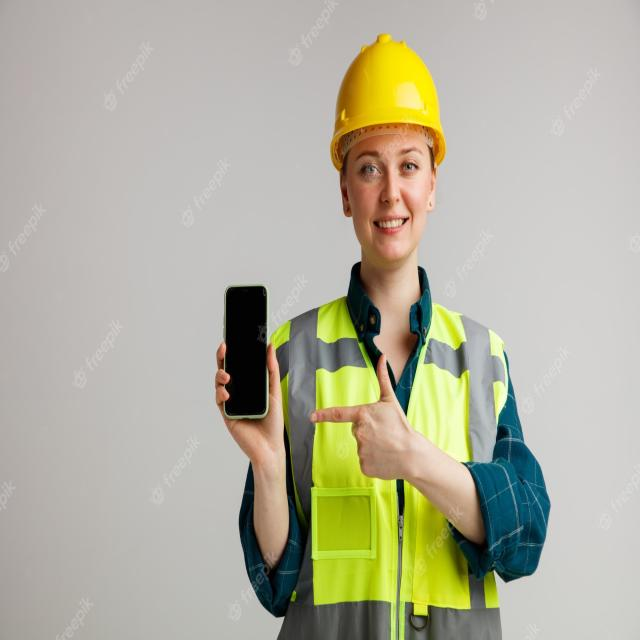helmet: (320, 27, 448, 168)
vest: (273, 293, 518, 640), (348, 143, 433, 187)
